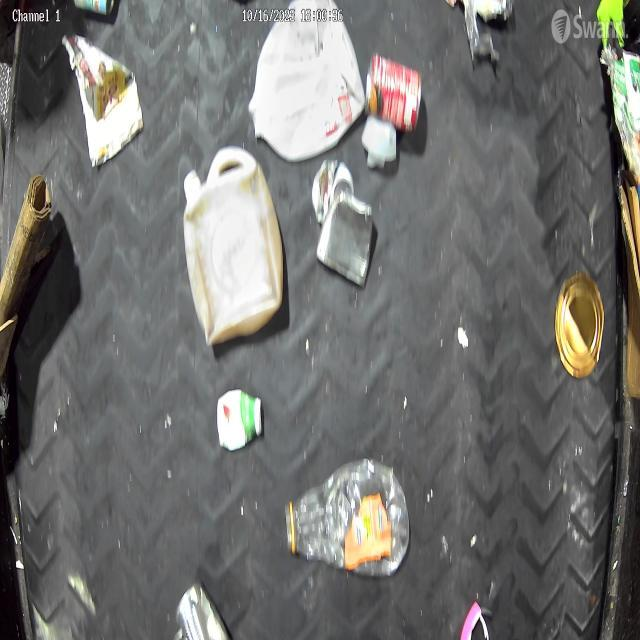can: (316, 192, 374, 288), (554, 271, 604, 378), (364, 49, 422, 132), (176, 579, 232, 640), (311, 158, 355, 226), (74, 0, 114, 17)
milk_jug: (183, 146, 283, 348), (248, 0, 366, 163)
plastic_bottle: (284, 456, 411, 578)
